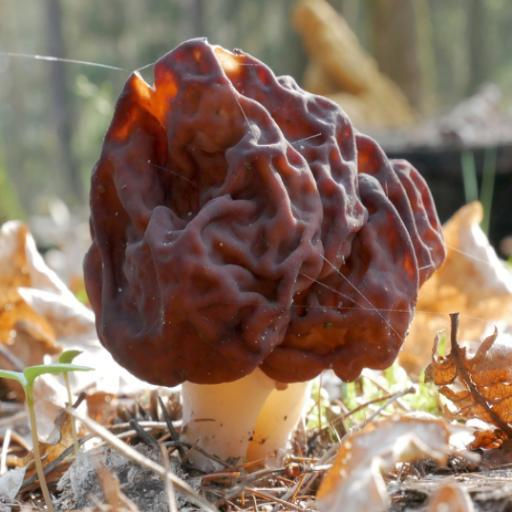mushroom: (2, 16, 483, 507)
